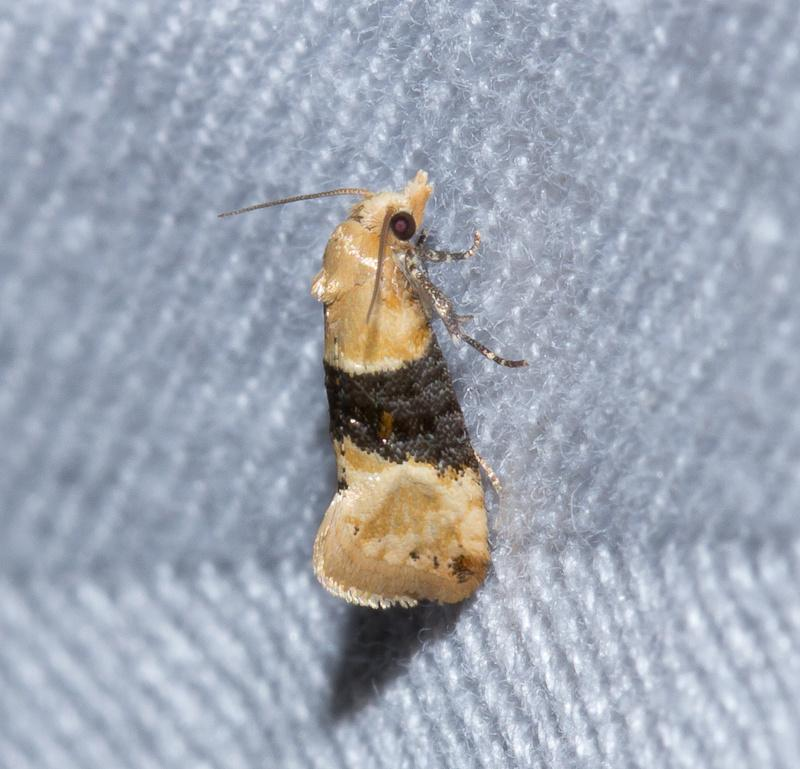Eupoecilia Ambiguella: (215, 167, 532, 613)
